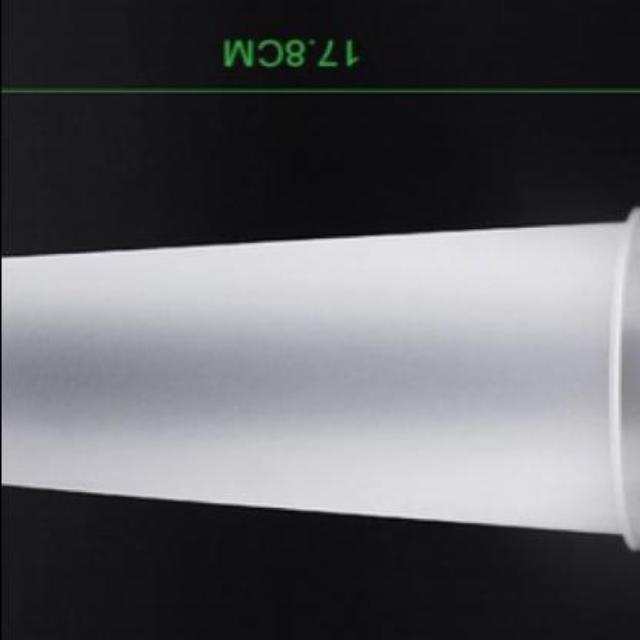plastic_cup: (2, 208, 638, 556)
